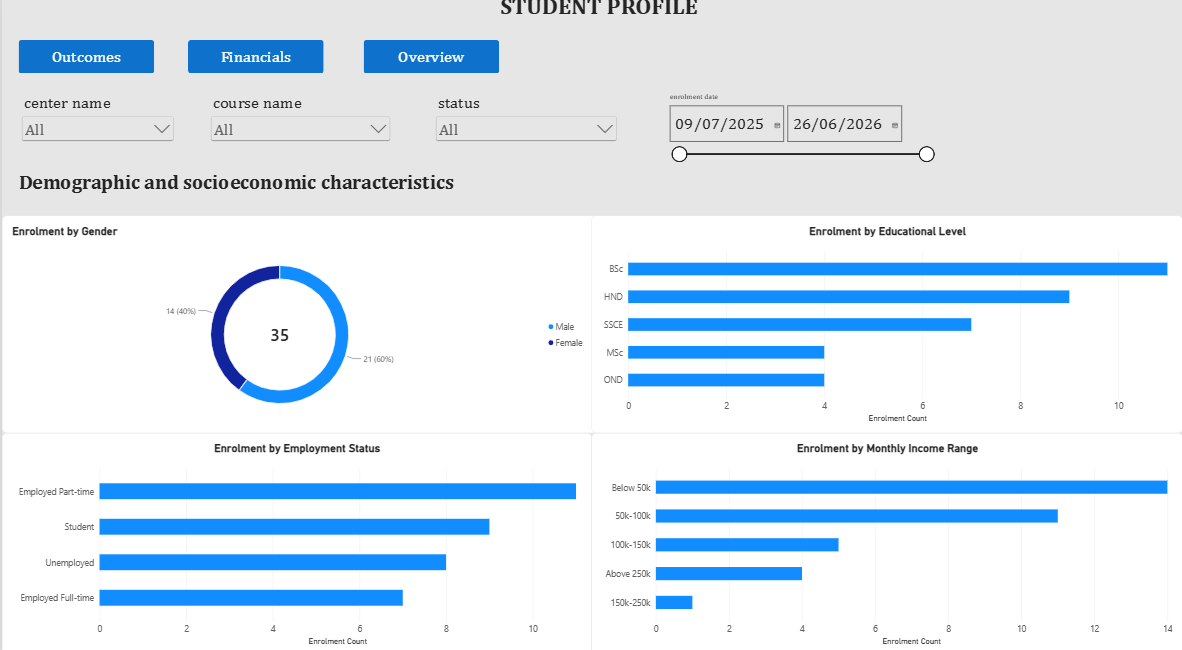

What the dashboard file says about the page in this screenshot:
{"tool":"powerbi","page":{"name":"Student Profile","canvas":[1920,1080],"ordinal":3},"visuals":[{"type":"donutChart","title":"Enrolment by Gender","fields":{"Category":["Data.gender"],"Y":["Count(Data.enrollment_id)"]},"box":[0,363,971.1,354],"z":0},{"type":"clusteredBarChart","title":"Enrolment by Educational Level","fields":{"Category":["Data.education_level"],"Y":["Count(Data.enrollment_id)"]},"box":[959,363,962,354],"z":1000},{"type":"clusteredBarChart","title":"Enrolment by Employment Status","fields":{"Category":["Data.employment_status"],"Y":["Count(Data.enrollment_id)"]},"box":[0,717,959,363],"z":2000},{"type":"clusteredBarChart","title":"Enrolment by Monthly Income Range","fields":{"Category":["Data.monthly_income_range"],"Y":["Count(Data.enrollment_id)"]},"box":[959,717,962,363],"z":3000},{"type":"textbox","box":[26.8,0,1888.4,58.6],"z":4000},{"type":"actionButton","box":[302.5,78.1,220.9,54.3],"z":5000},{"type":"actionButton","box":[26.8,78.1,220.9,54.3],"z":6000},{"type":"actionButton","box":[588,78.1,220.9,54.3],"z":7000},{"type":"slicer","fields":{"Values":["Data.center_name"]},"box":[26.8,163.5,257.9,103.1],"z":8000},{"type":"slicer","fields":{"Values":["Data.course_name"]},"box":[334.3,163.5,302.5,102.5],"z":9000},{"type":"slicer","fields":{"Values":["Data.status"]},"box":[700.2,163.5,305,102.5],"z":10000},{"type":"slicer","fields":{"Values":["Data.enrollment_date"]},"box":[1078.4,163.5,441.6,126.9],"z":11000},{"type":"textbox","box":[26.8,290.3,1888.4,41.5],"z":12000}]}

Visuals, with their boxes in screenshot pixels (x1, y1, x2, y2), scaled from the page's 1920x1080 canvas onto the 1182x650 screenshot:
"Enrolment by Gender" donutChart: [left=0, top=218, right=598, bottom=432]
"Enrolment by Educational Level" clusteredBarChart: [left=590, top=218, right=1181, bottom=432]
"Enrolment by Employment Status" clusteredBarChart: [left=0, top=432, right=590, bottom=649]
"Enrolment by Monthly Income Range" clusteredBarChart: [left=590, top=432, right=1181, bottom=649]
textbox: [left=16, top=0, right=1179, bottom=35]
actionButton: [left=186, top=47, right=322, bottom=80]
actionButton: [left=16, top=47, right=152, bottom=80]
actionButton: [left=362, top=47, right=498, bottom=80]
slicer - Data.center_name: [left=16, top=98, right=175, bottom=160]
slicer - Data.course_name: [left=206, top=98, right=392, bottom=160]
slicer - Data.status: [left=431, top=98, right=619, bottom=160]
slicer - Data.enrollment_date: [left=664, top=98, right=936, bottom=175]
textbox: [left=16, top=175, right=1179, bottom=200]
